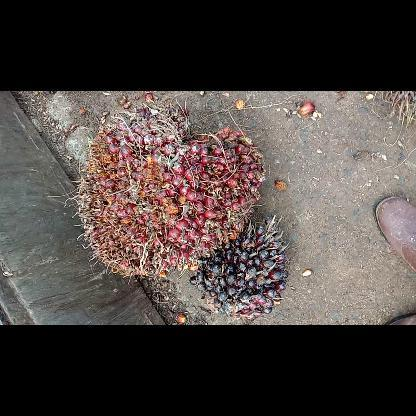TBS abnormal: (188, 220, 290, 322)
TBS masak: (70, 105, 268, 282)
